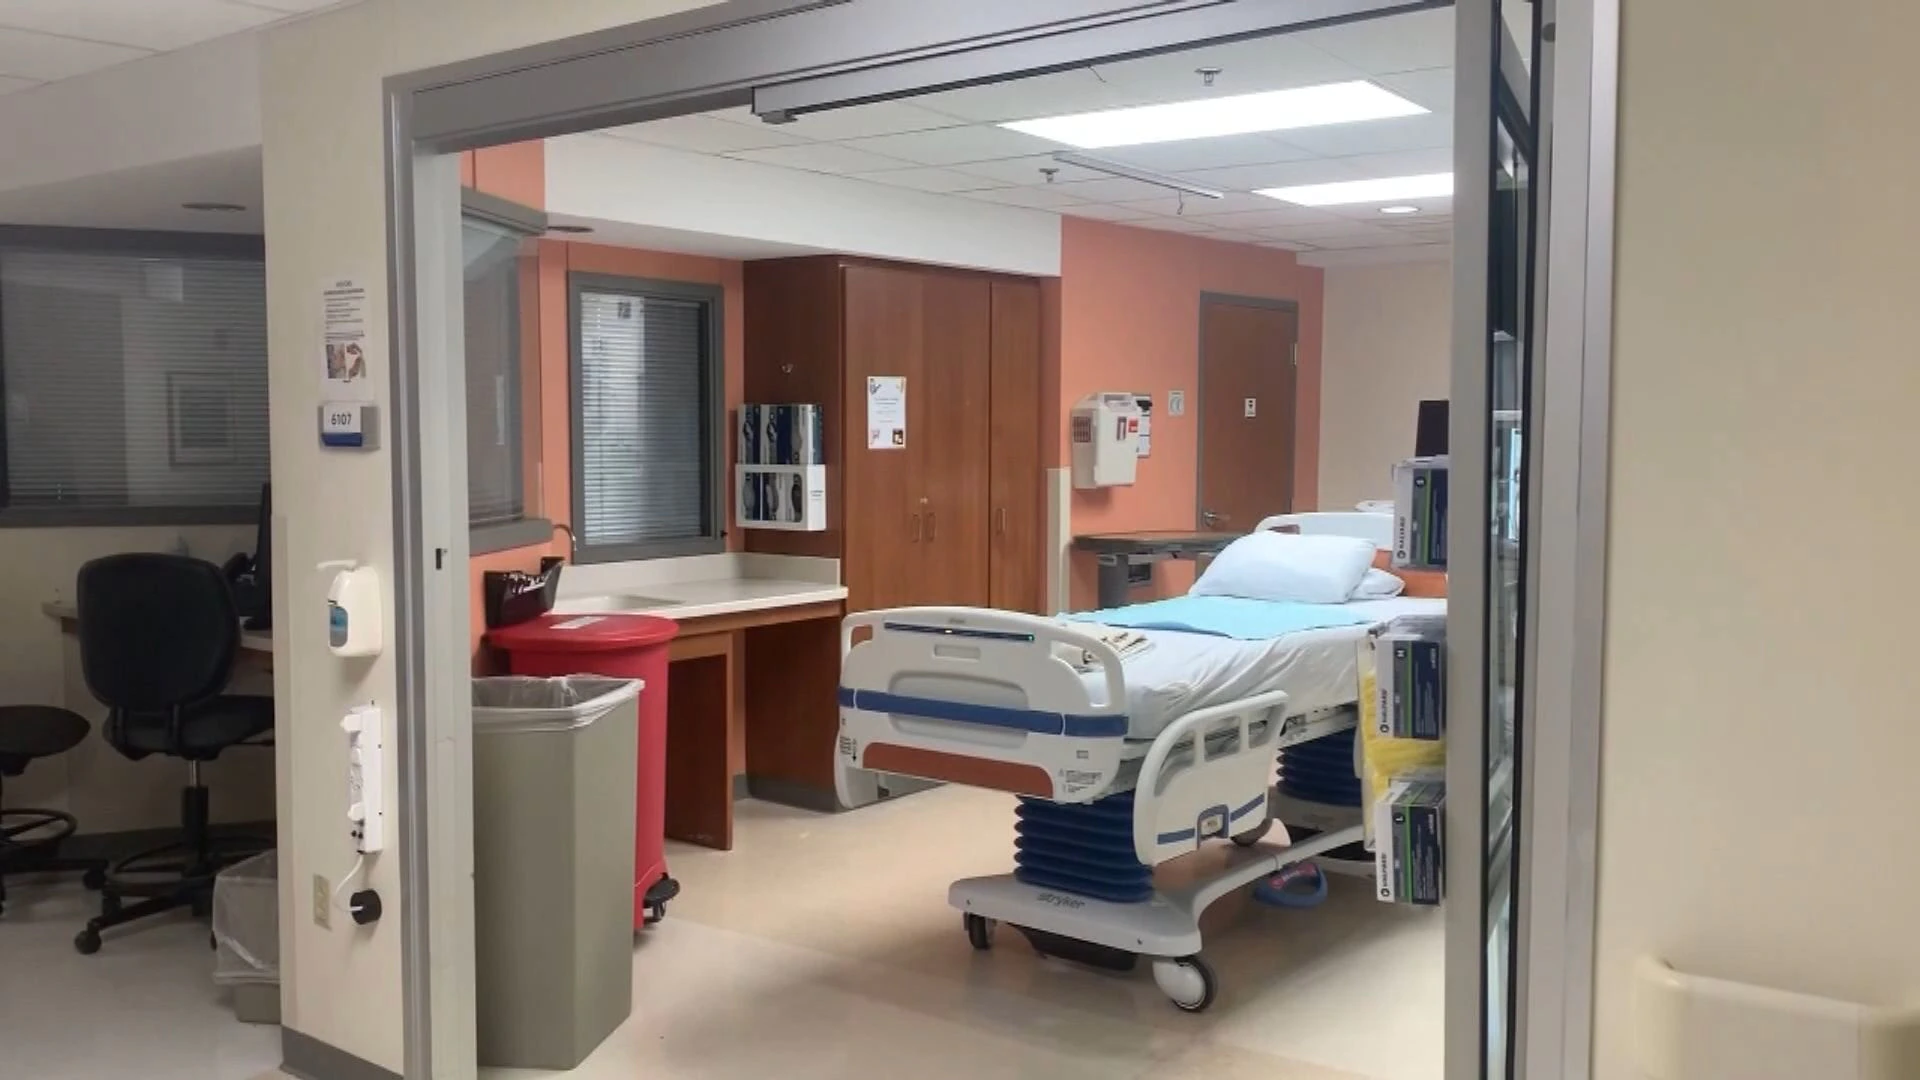bedrail: (1133, 691, 1296, 866)
cabinet: (745, 262, 1034, 799)
chair: (75, 553, 272, 953), (1, 702, 105, 913)
countertop: (563, 578, 848, 618)
dispenser: (1338, 790, 1460, 903), (1340, 624, 1461, 737), (1366, 459, 1487, 571), (315, 558, 382, 658)
door_handle: (1205, 506, 1228, 525)
faucet: (554, 522, 578, 553)
foot_board: (831, 603, 1127, 807)
handle: (994, 506, 1011, 543), (927, 513, 940, 545), (913, 509, 920, 546)
hospital_bed: (832, 512, 1390, 1015)
medical_waste_container: (1073, 394, 1145, 492)
overbed_table: (1073, 531, 1226, 609)
table: (37, 600, 274, 663)
waste_bin: (472, 669, 644, 1071), (483, 615, 674, 934)
